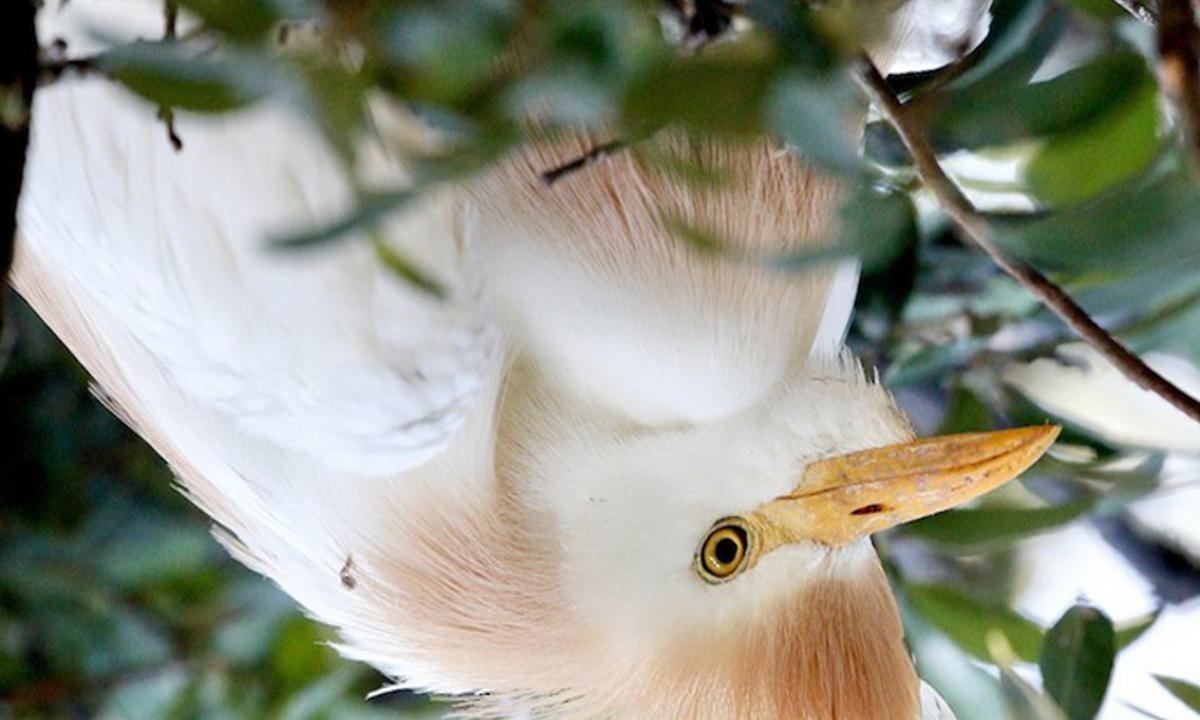egret: (7, 40, 1064, 709)
